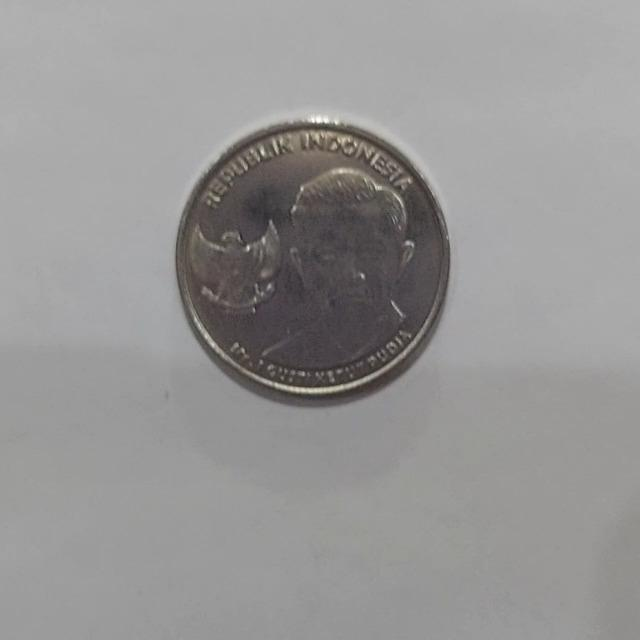Rp100: (173, 115, 452, 402)
